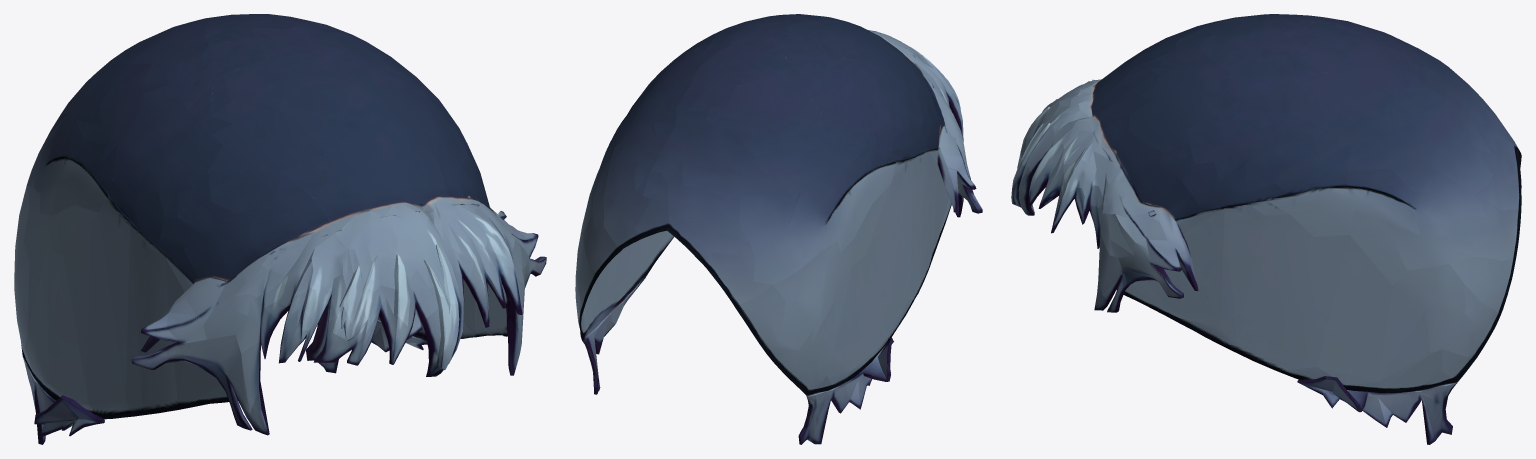
Rendered from nerith_m-meche-1-frange-courte-calotte.glb.
3 views of the same model, side by side, from view 1: azimuth 30°, elevation 25°; view 2: azimuth 150°, elevation 25°; view 3: azimuth 270°, elevation 25° (orthographic). The views are drawn at different scales.
Parts seen in each view (by area): view 1: geometry_0; view 2: geometry_0; view 3: geometry_0.
Part boxes in pixels (x1,y1,x2,y2): geometry_0: [14, 14, 546, 444]; geometry_0: [575, 14, 982, 444]; geometry_0: [1011, 14, 1521, 444].
Size of the model in its own units: 1.46 by 1.45 by 1.89.
Materials: 1 (1 with a texture image).
